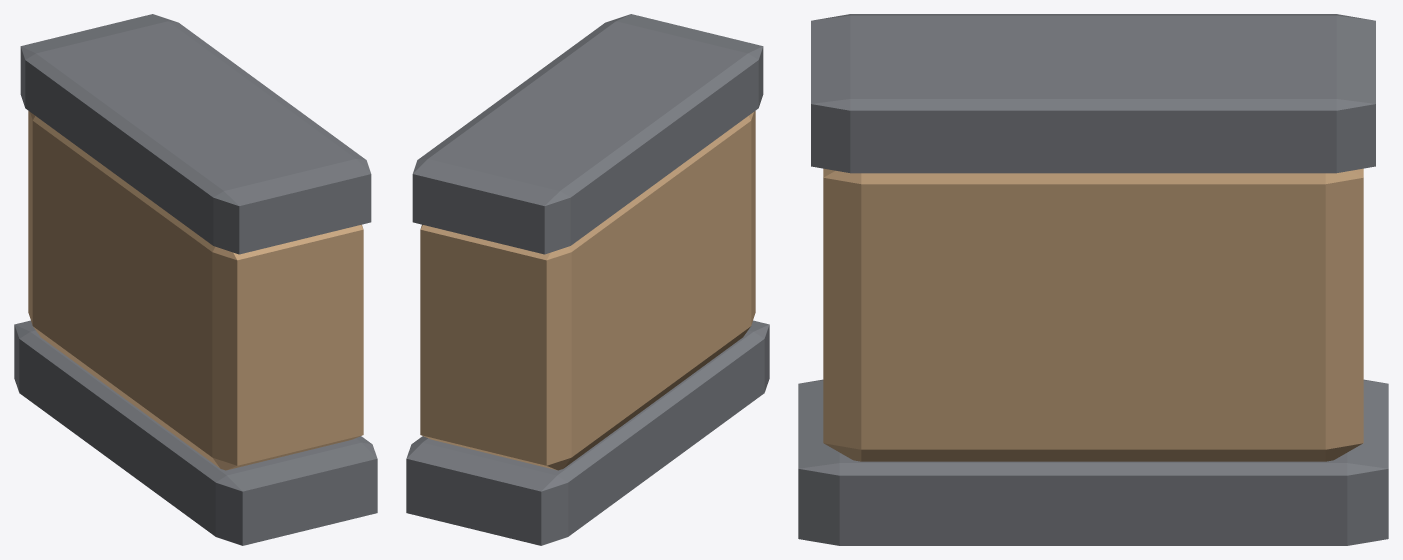
The model's file is b14_manual_pallet_jack.glb.
3 renders of one model, left to right at view 1: azimuth 30°, elevation 25°; view 2: azimuth 150°, elevation 25°; view 3: azimuth 270°, elevation 25°, orthographic. The views are drawn at different scales.
Parts seen in each view (by area): view 1: b14_manual_pallet_jack; view 2: b14_manual_pallet_jack; view 3: b14_manual_pallet_jack.
Boxes of the visible parts, x1=… form: b14_manual_pallet_jack: x1=14, y1=14, x2=377, y2=545; b14_manual_pallet_jack: x1=406, y1=14, x2=769, y2=545; b14_manual_pallet_jack: x1=798, y1=14, x2=1388, y2=545.
Bounding box in the file's own units: 0.61 × 1.28 × 1.54.
